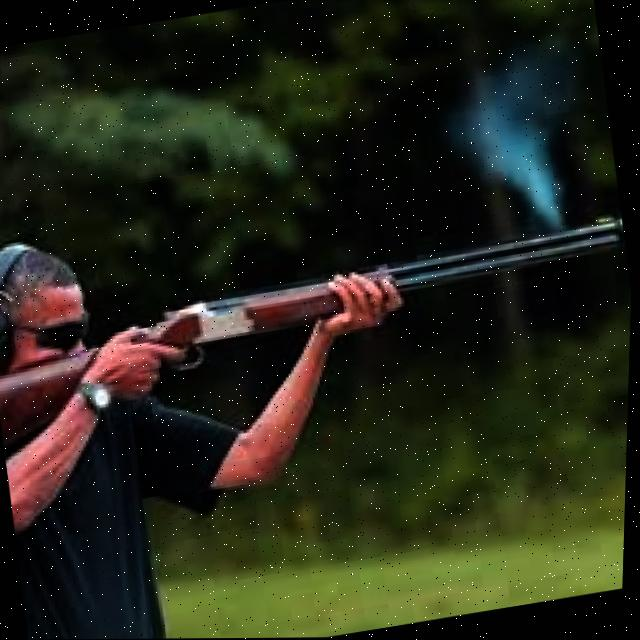firearm: (0, 209, 635, 442)
